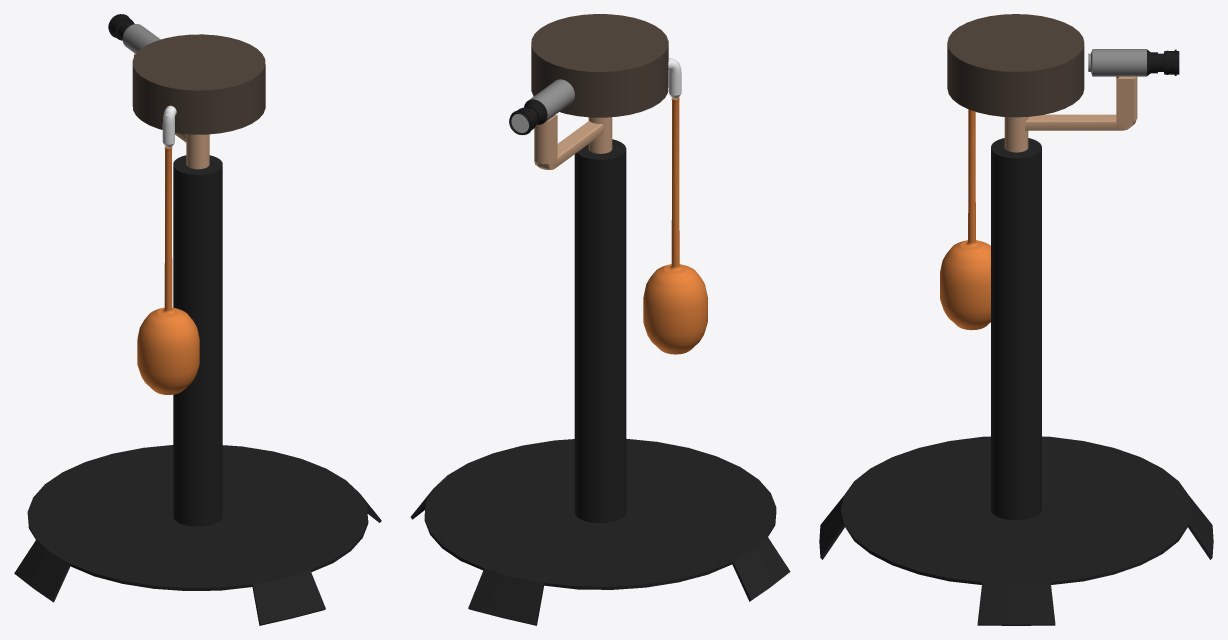
The model's file is Milikan.fbx.
The picture shows the model from 3 angles, left to right: view 1: azimuth 30°, elevation 25°; view 2: azimuth 150°, elevation 25°; view 3: azimuth 270°, elevation 25°; orthographic projection. The views are drawn at different scales.
Visible parts, largest first — view 1: Aparato, Cosa Translúcida, Bomb, Micrometer; view 2: Aparato, Cosa Translúcida, Bomb, Micrometer; view 3: Aparato, Cosa Translúcida, Bomb, Micrometer.
Boxes of the visible parts, bbox=[...] form: Aparato: bbox=[14, 53, 381, 625]; Cosa Translúcida: bbox=[132, 34, 265, 134]; Bomb: bbox=[137, 105, 199, 394]; Micrometer: bbox=[108, 14, 160, 53]; Aparato: bbox=[410, 115, 790, 625]; Cosa Translúcida: bbox=[531, 14, 668, 117]; Bomb: bbox=[643, 58, 707, 354]; Micrometer: bbox=[509, 79, 574, 134]; Aparato: bbox=[819, 76, 1213, 625]; Cosa Translúcida: bbox=[947, 14, 1084, 117]; Bomb: bbox=[940, 109, 990, 330]; Micrometer: bbox=[1088, 49, 1179, 76].
Size of the model in its own units: 112 by 157 by 112.
